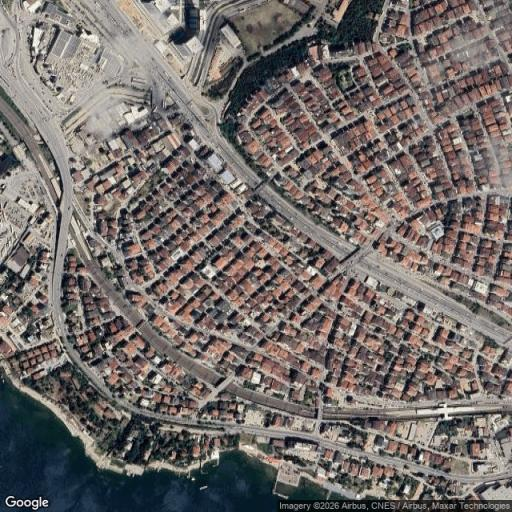ship: (200, 485, 208, 490)
